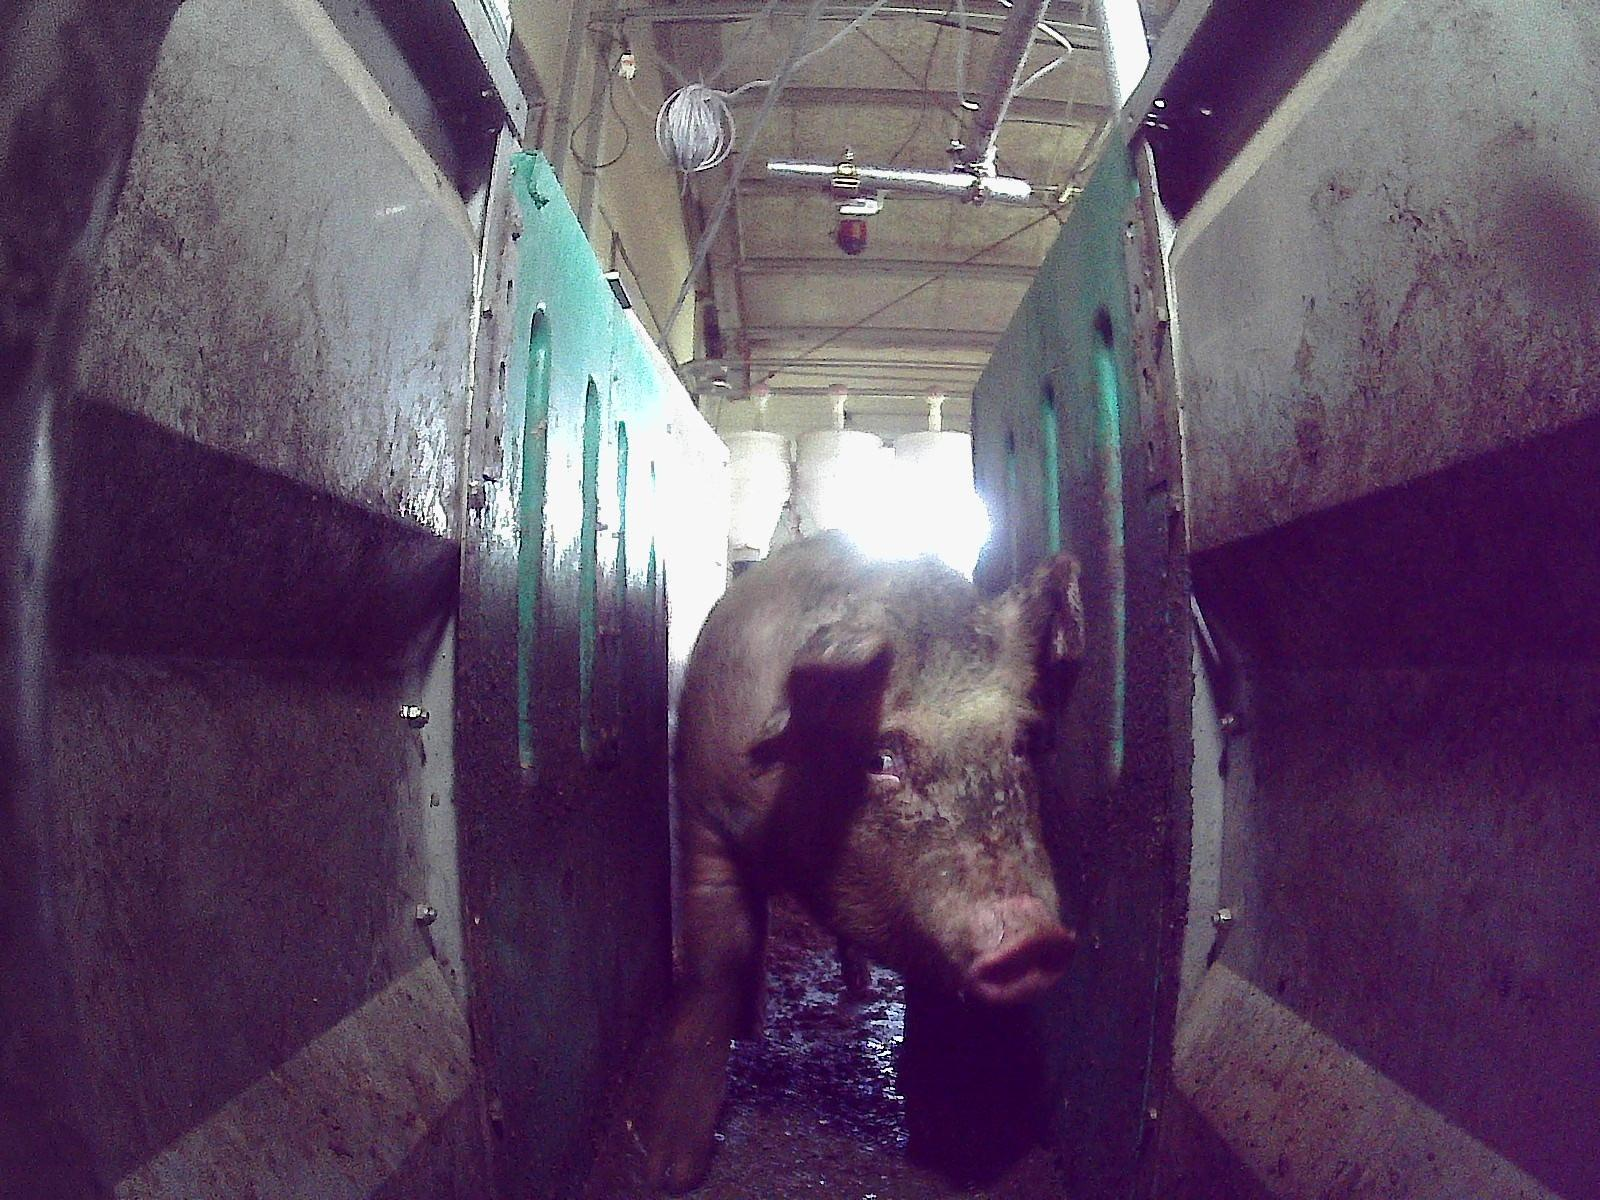Face: (801, 593, 1074, 999)
